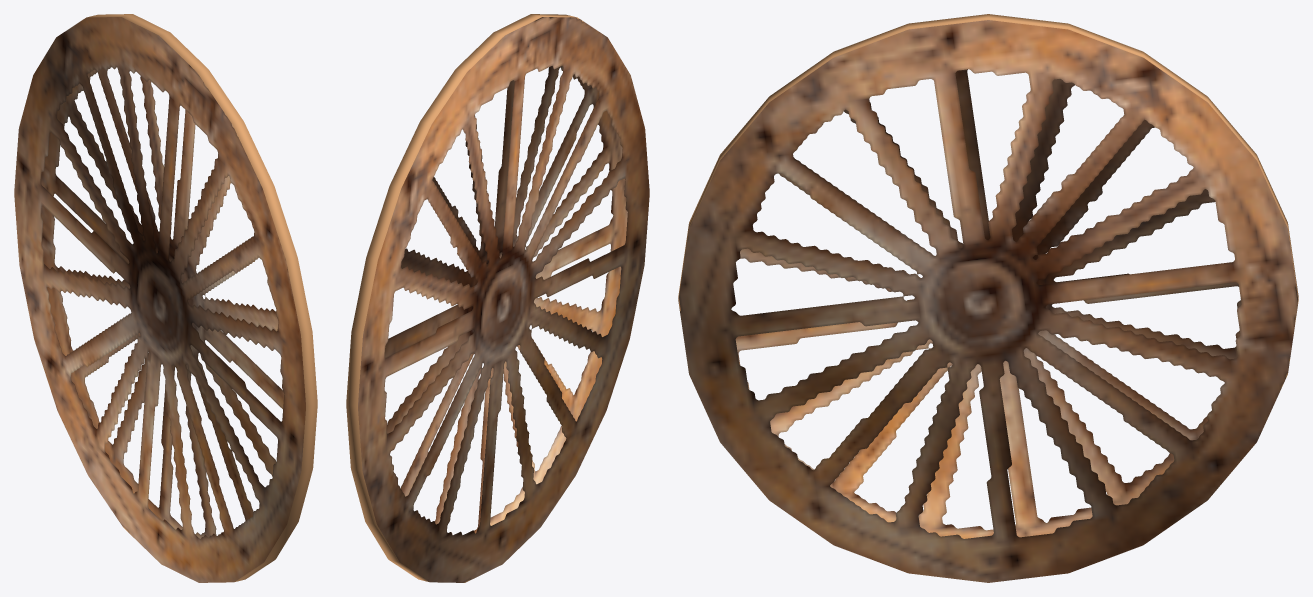
File: wheel.obj
3 views of the same model, side by side, from view 1: azimuth 30°, elevation 25°; view 2: azimuth 150°, elevation 25°; view 3: azimuth 270°, elevation 25° (orthographic). The views are drawn at different scales.
Parts seen in each view (by area): view 1: Cylinder; view 2: Cylinder; view 3: Cylinder.
Part boxes in pixels (<box>): Cylinder: <box>14,14,317,582</box>; Cylinder: <box>346,14,649,582</box>; Cylinder: <box>678,14,1298,582</box>.
Size of the model in its own units: 0.0354 by 1.31 by 1.31.
Materials: 1 (1 with a texture image).
